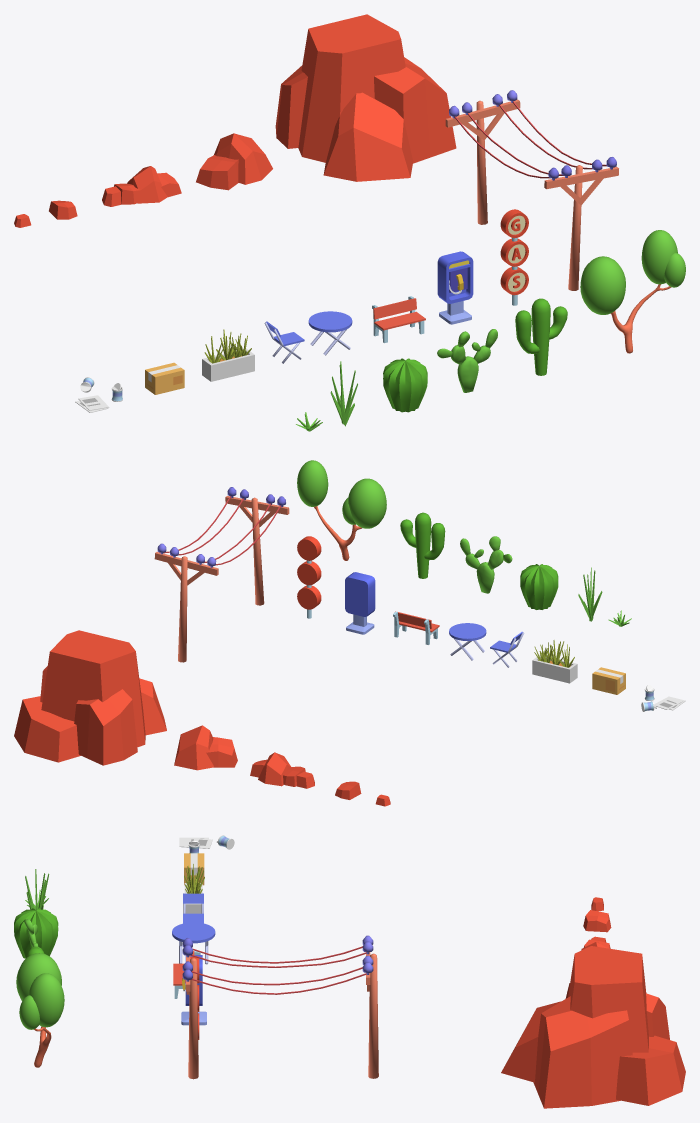
The model's file is Low_Poly_Asset.fbx.
3 views of the same model, one above another, from view 1: azimuth 30°, elevation 25°; view 2: azimuth 150°, elevation 25°; view 3: azimuth 270°, elevation 25° (orthographic). The views are drawn at different scales.
Visible parts, largest first — view 1: Big_Rocks, Tree, Stone_2, Transmission_line, Cube.005, Cactus_3, Phone, Stone_2.001, Gas_sign, Cactus_1, Grass_3, Cactus_2 (+5 smaller); view 2: Big_Rocks, Tree, Stone_2, Cube.005, Transmission_line, Cactus_3, Phone, Gas_sign, Cactus_1, Stone_2.001, Grass_3, Cactus_2 (+4 smaller); view 3: Big_Rocks, Tree, Cube.006, Cube.005, Cactus_1, Transmission_line, Table, Grass_3, Phone, Stone_1, Box, Chair (+1 smaller).
Part boxes in pixels (x1,y1,x2,y2): Big_Rocks: [275, 14, 456, 181]; Tree: [580, 230, 685, 353]; Stone_2: [196, 133, 272, 190]; Transmission_line: [544, 157, 618, 290]; Cube.005: [445, 90, 520, 224]; Cactus_3: [515, 298, 567, 375]; Phone: [437, 251, 473, 324]; Stone_2.001: [102, 166, 181, 206]; Gas_sign: [500, 209, 528, 305]; Cactus_1: [383, 358, 427, 412]; Grass_3: [202, 329, 254, 381]; Cactus_2: [437, 329, 497, 392]; Big_Rocks: [14, 630, 166, 765]; Tree: [297, 460, 386, 560]; Stone_2: [174, 725, 237, 770]; Cube.005: [154, 543, 218, 662]; Transmission_line: [225, 487, 289, 605]; Cactus_3: [400, 512, 445, 578]; Phone: [345, 572, 375, 634]; Gas_sign: [297, 536, 321, 618]; Cactus_1: [520, 564, 558, 609]; Stone_2.001: [250, 752, 314, 788]; Grass_3: [532, 640, 577, 683]; Cactus_2: [460, 536, 512, 593]; Big_Rocks: [501, 946, 685, 1108]; Tree: [16, 953, 64, 1067]; Cube.006: [190, 946, 366, 994]; Cube.005: [362, 935, 378, 1078]; Cactus_1: [14, 908, 58, 958]; Transmission_line: [182, 938, 198, 1079]; Table: [172, 922, 215, 964]; Grass_3: [184, 864, 204, 913]; Phone: [181, 955, 206, 1025]; Stone_1: [583, 910, 611, 932]; Box: [184, 853, 204, 885]; Chair: [183, 893, 203, 923].
Size of the model in its own units: 4927 by 1135 by 5247.
